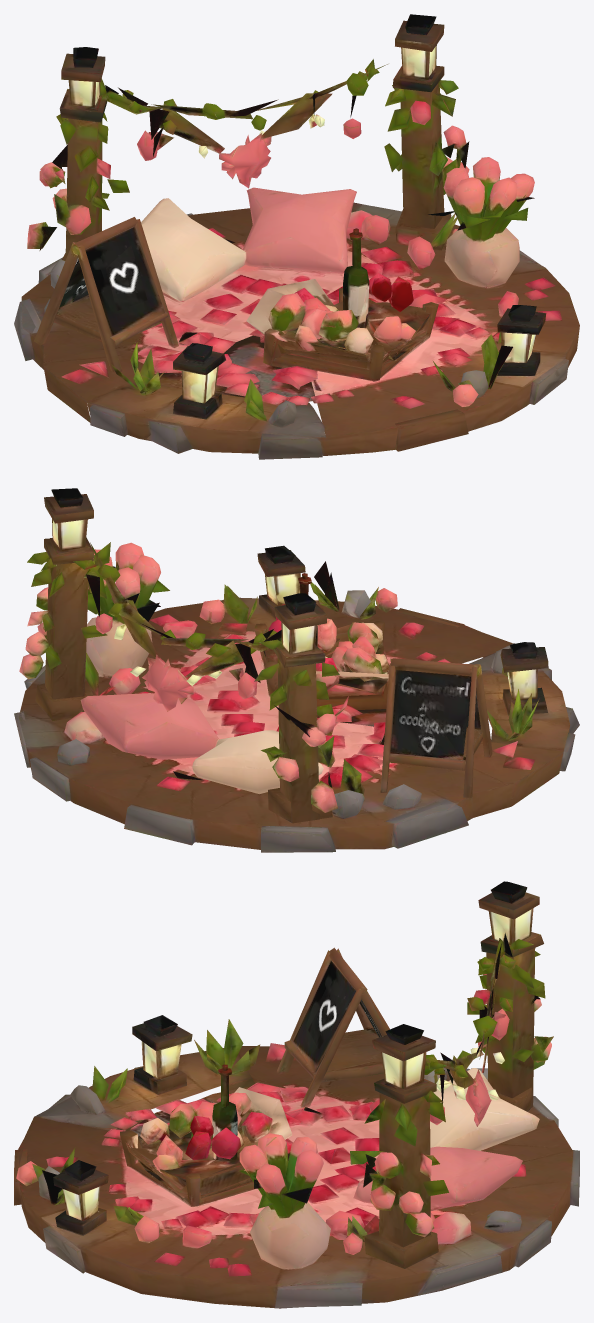
Rendered from osobenno.glb.
The picture shows the model from 3 angles, top to bottom: view 1: azimuth 30°, elevation 25°; view 2: azimuth 150°, elevation 25°; view 3: azimuth 270°, elevation 25°; orthographic projection. The views are drawn at different scales.
Visible parts, largest first — view 1: mesh_node; view 2: mesh_node; view 3: mesh_node.
Boxes of the visible parts, x1,y1,x2,y2 form: mesh_node: (14, 14, 579, 459); mesh_node: (14, 488, 579, 852); mesh_node: (14, 881, 579, 1308).
Bounding box in the file's own units: 1 × 0.4932 × 0.9902.
1 material, 1 textured.
